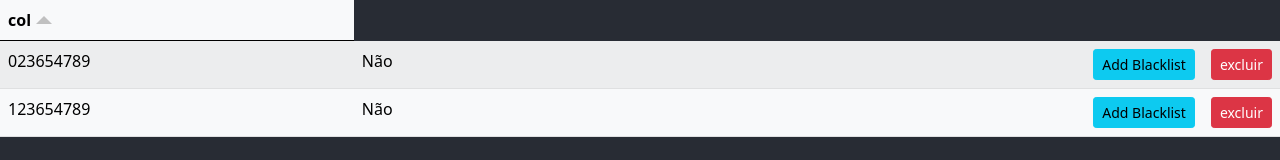
Test: 5. caso: ordenando os registros <Table />
What coordinates should you click on to do the following:
click the column heading with test id "col-0"
I would click on:
 (177, 20)
Its box is [0, 0, 354, 40].
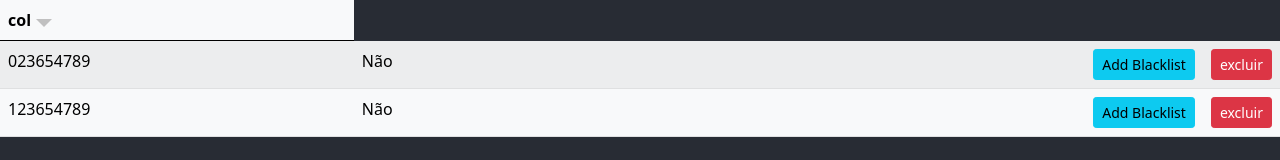
expect the column heading titled "col sort desc" is shown: met
What coordinates should you click on to do the following:
click the column heading with test id "col-0"
I would click on:
 (177, 20)
Its box is [0, 0, 354, 40].
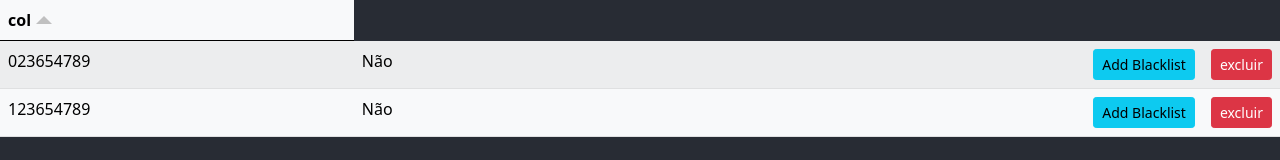
expect the column heading titled "col sort asc" is shown: met, box [0, 0, 354, 40]
